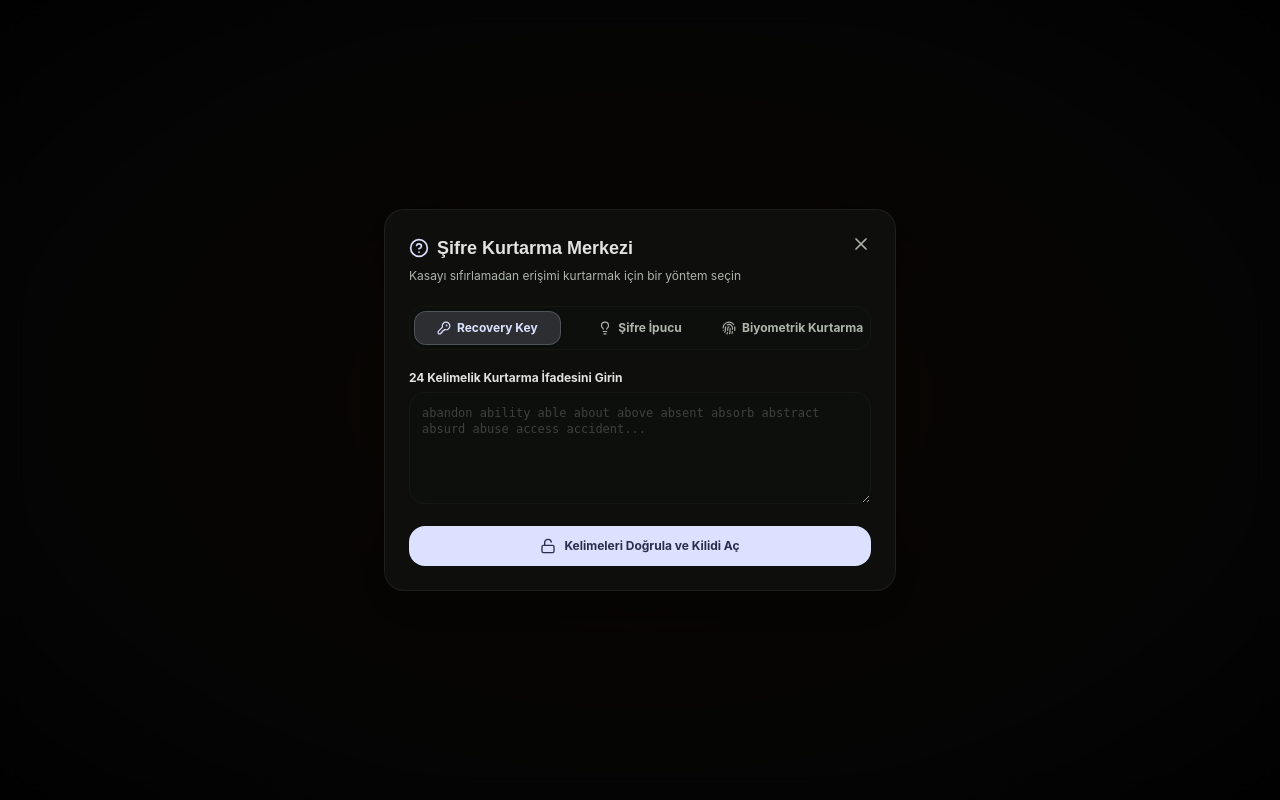
it: LockScreenRecoveryModal › maps biometric permission errors to the permission message
The image size is (1280, 800).
Click the button with test id "lock-recovery-tab-biometric": (793, 328) [719, 311, 866, 345]
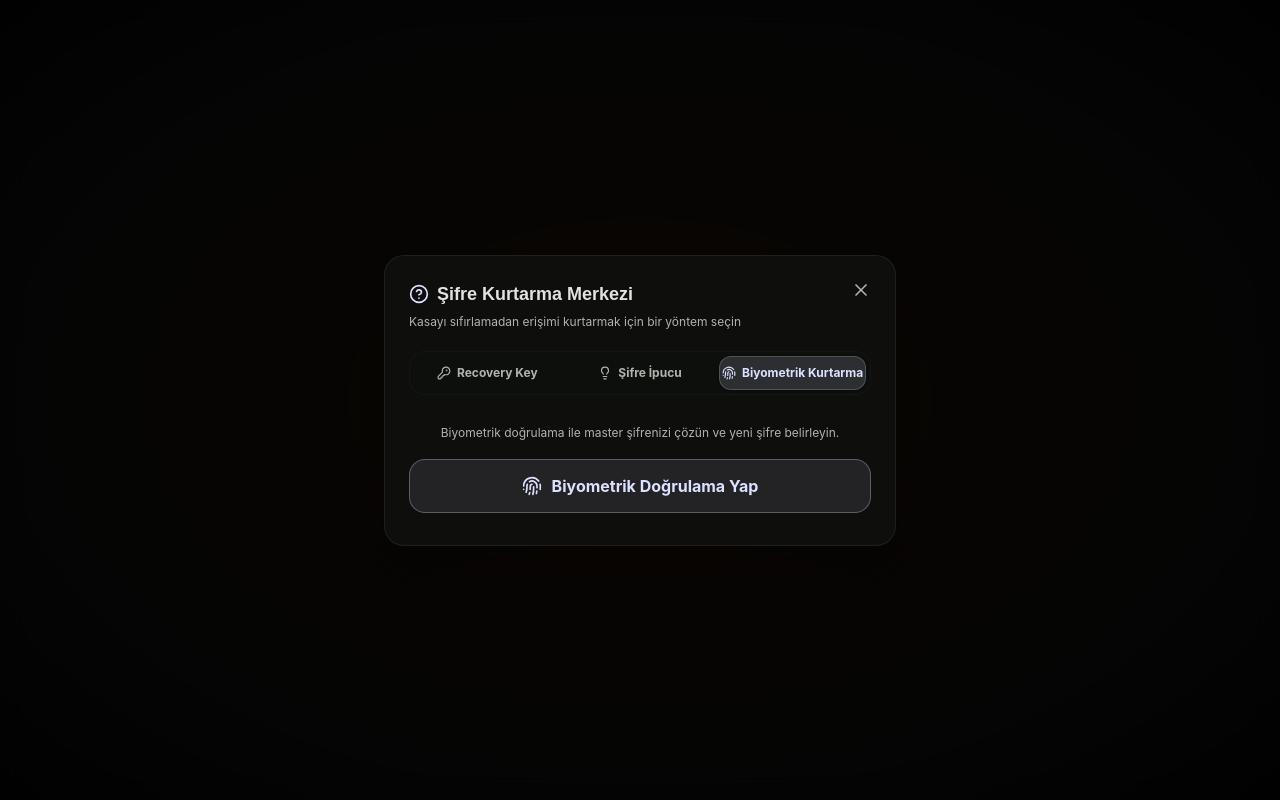
Click the button with test id "lock-recovery-biometric-button": (640, 486) [409, 458, 871, 512]
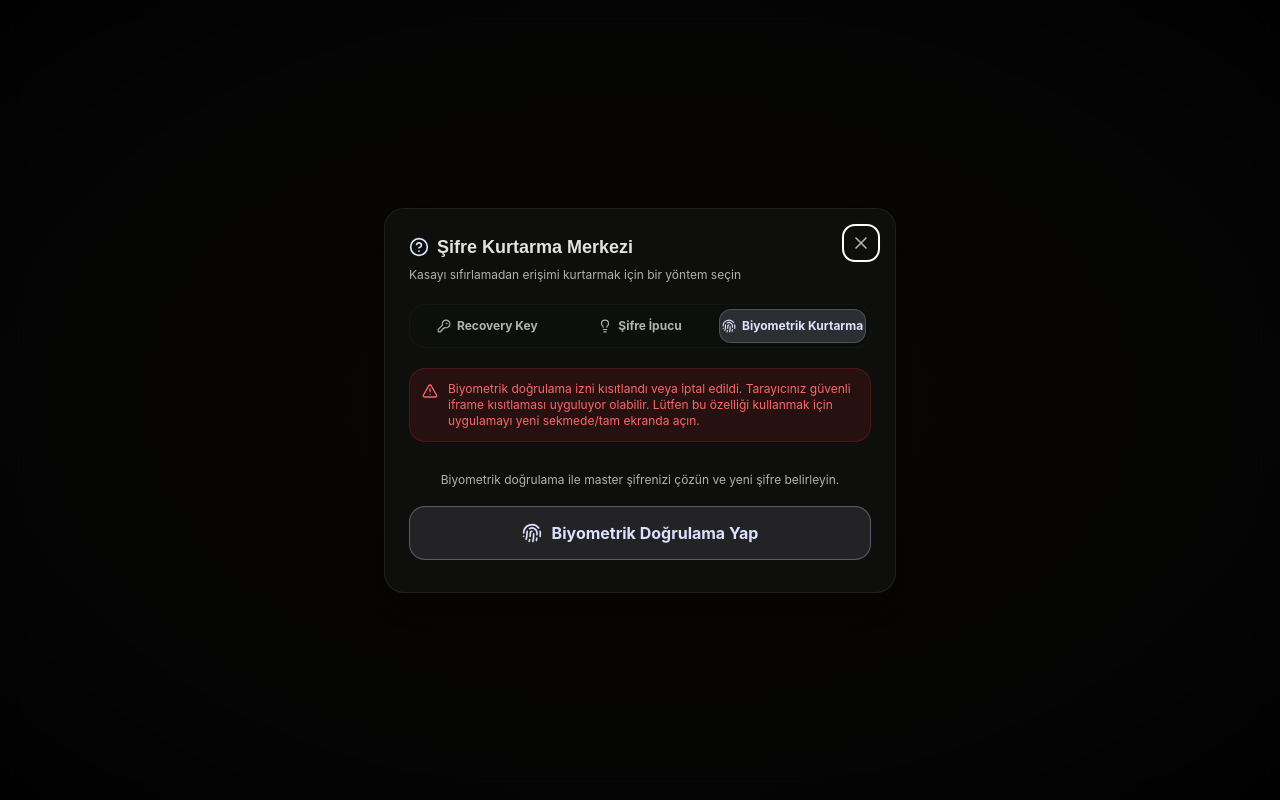
Expected: the element with test id "lock-recovery-error" shows "Biyometrik doğrulama izni kısıtlandı", [448, 381, 851, 428]
